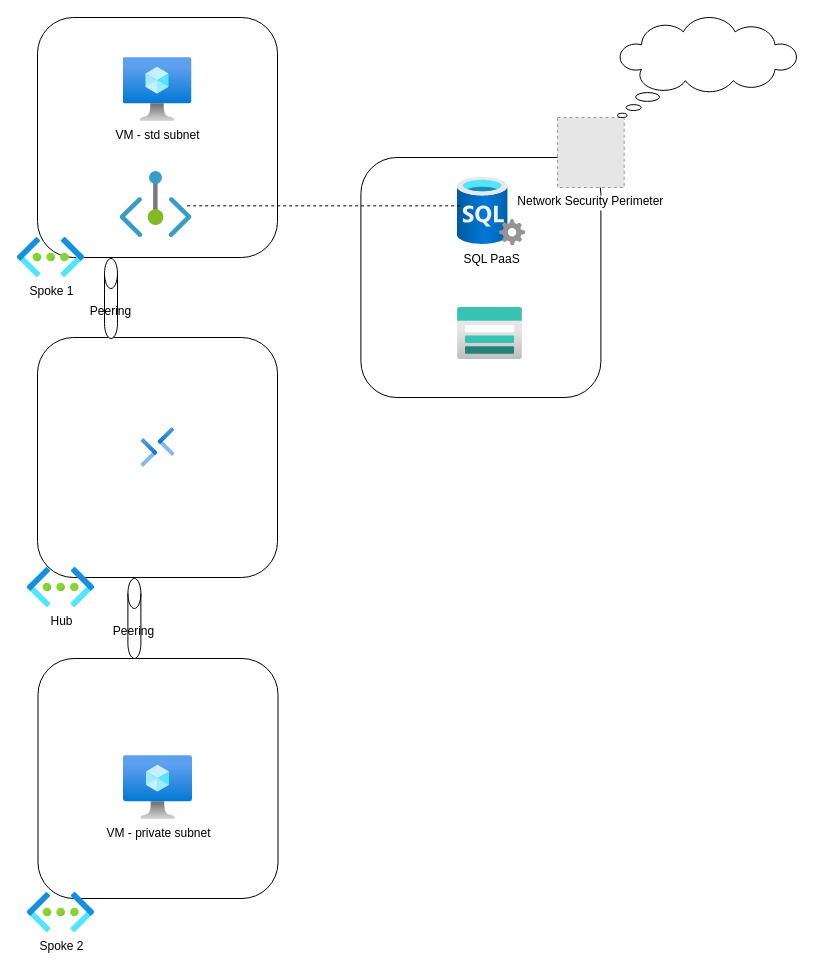
Image size: 815x971. Some labels were removed from this diagram. Grey dashed boxes stand in for pictures. Here are the shapes that lost their labels. From the top down, the centre of each, then its label:
At [707,67]: "Inbound Public: subscription & IP:xx.xx.xx.xx".
At [156,204]: "PE-SQL".
At [489,333]: "Storage Account".
At [157,447]: "Bastion Premium".
